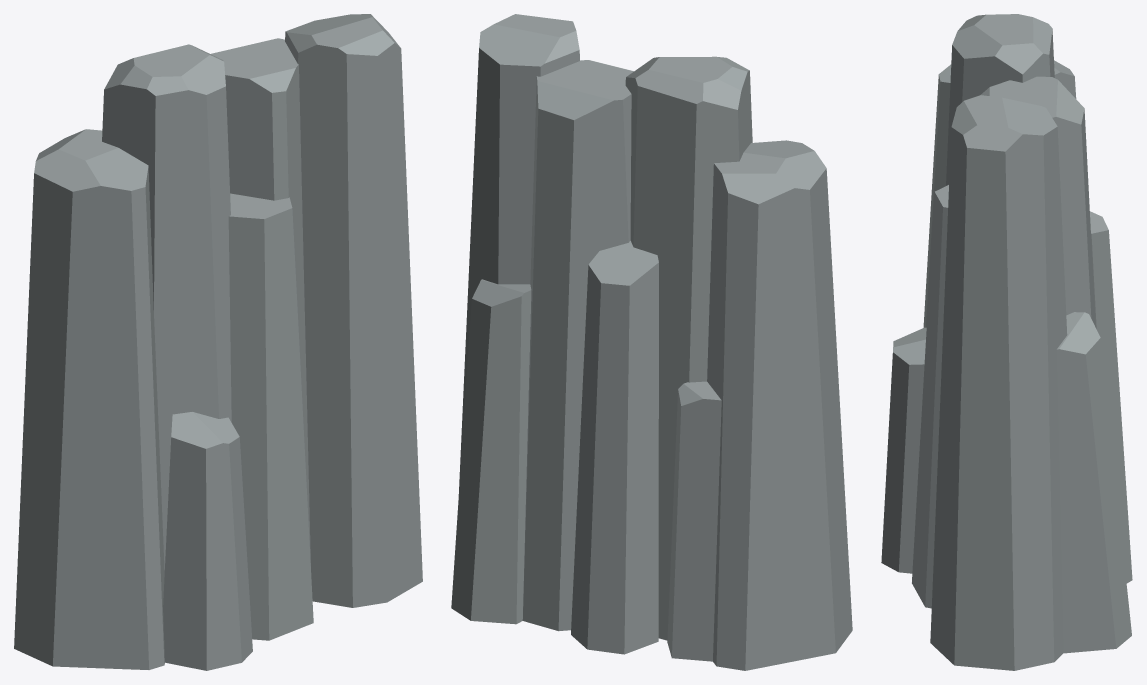
The model's file is NHP_Rock_Wall_A2_01.fbx.
The picture shows the model from 3 angles, left to right: view 1: azimuth 30°, elevation 25°; view 2: azimuth 150°, elevation 25°; view 3: azimuth 270°, elevation 25°; orthographic projection. The views are drawn at different scales.
Parts seen in each view (by area): view 1: NHP_Rock_Wall_A2_01; view 2: NHP_Rock_Wall_A2_01; view 3: NHP_Rock_Wall_A2_01.
Boxes of the visible parts, bbox=[...] form: NHP_Rock_Wall_A2_01: bbox=[14, 14, 422, 670]; NHP_Rock_Wall_A2_01: bbox=[451, 14, 852, 670]; NHP_Rock_Wall_A2_01: bbox=[881, 14, 1132, 670].
Bounding box in the file's own units: 3.24 × 4.44 × 1.9.
